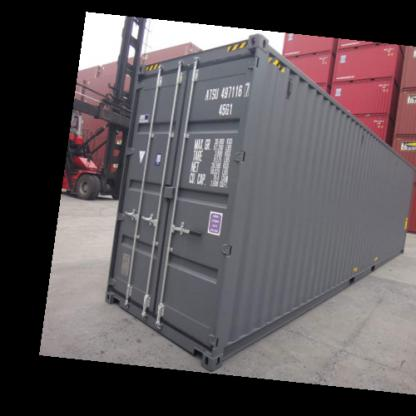Damage: (350, 123, 370, 151)
